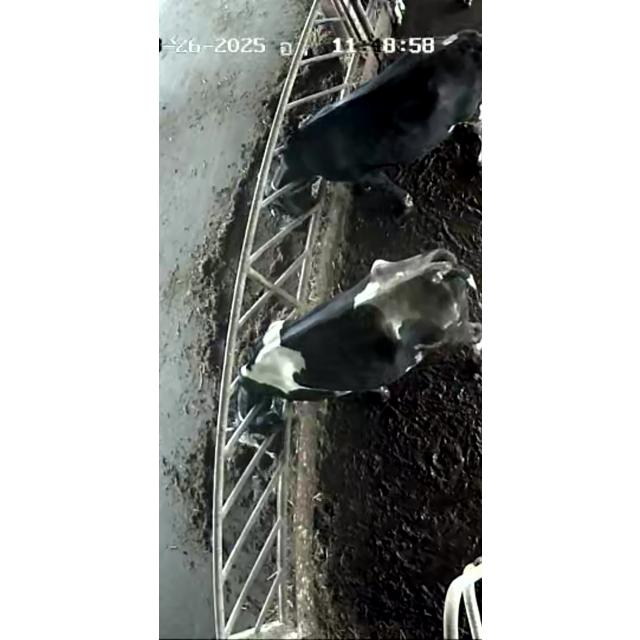eat: (192, 313, 344, 451), (212, 105, 364, 235)
